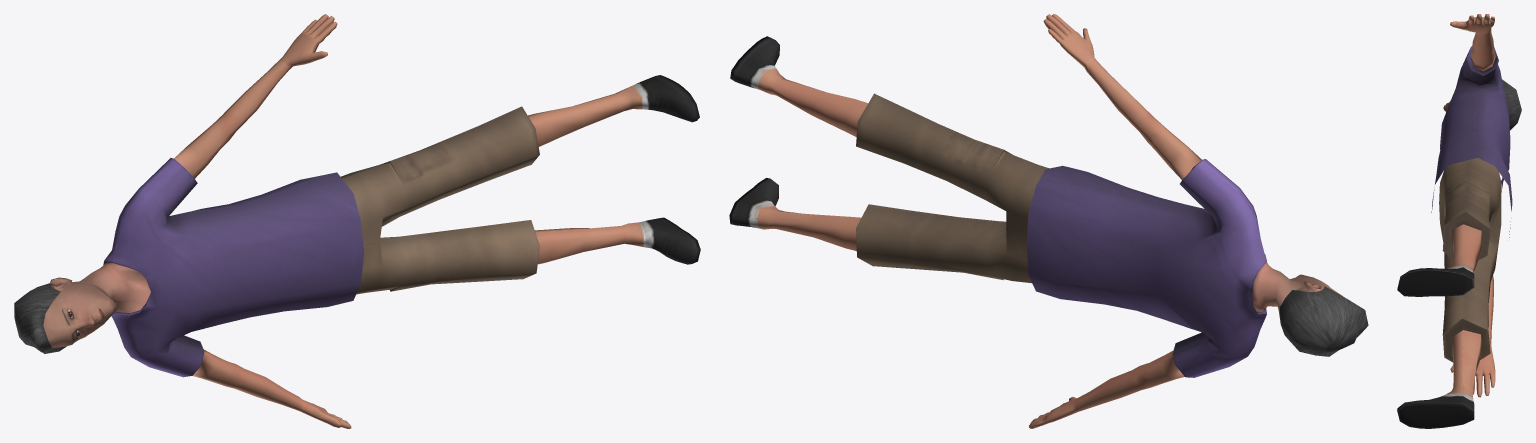
File: man_supine.glb
The picture shows the model from 3 angles, left to right: view 1: azimuth 30°, elevation 25°; view 2: azimuth 150°, elevation 25°; view 3: azimuth 270°, elevation 25°; orthographic projection. The views are drawn at different scales.
Visible parts, largest first — view 1: world; view 2: world; view 3: world.
Part boxes in pixels (box(x1,y1,x2,y2)): world: box(14, 14, 700, 428); world: box(729, 14, 1368, 428); world: box(1397, 14, 1521, 428).
Size of the model in its own units: 1.76 by 1.1 by 0.3314.
Materials: 1 (1 with a texture image).
